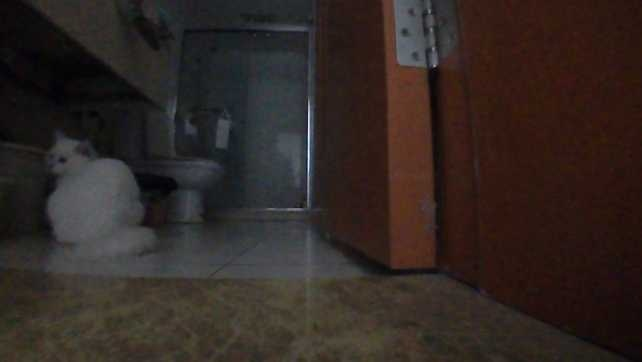cat: (42, 127, 160, 265)
toilet: (145, 109, 223, 224)
